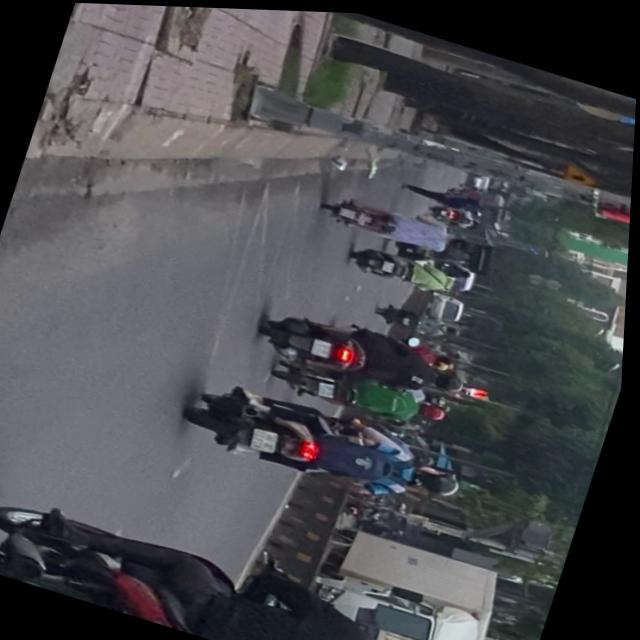helmet: (414, 458, 470, 499), (374, 638, 450, 640)
licenseplate: (0, 468, 475, 640), (178, 367, 483, 521)
nohelmet: (255, 425, 285, 452)
